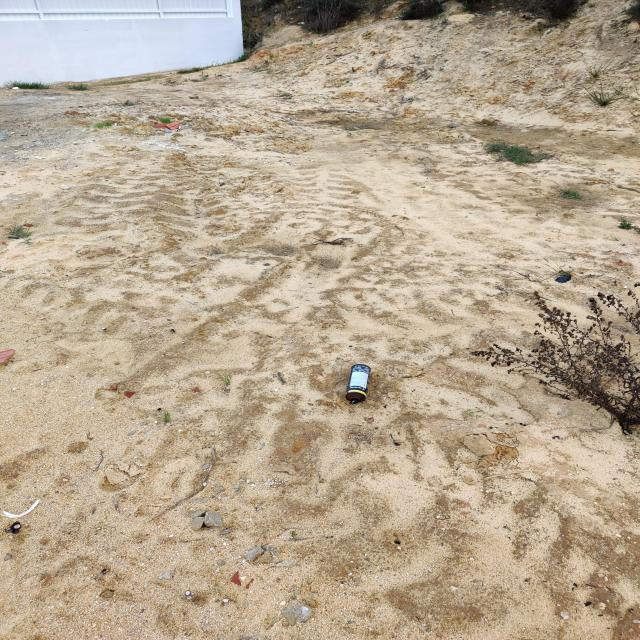litter: (336, 358, 383, 410)
